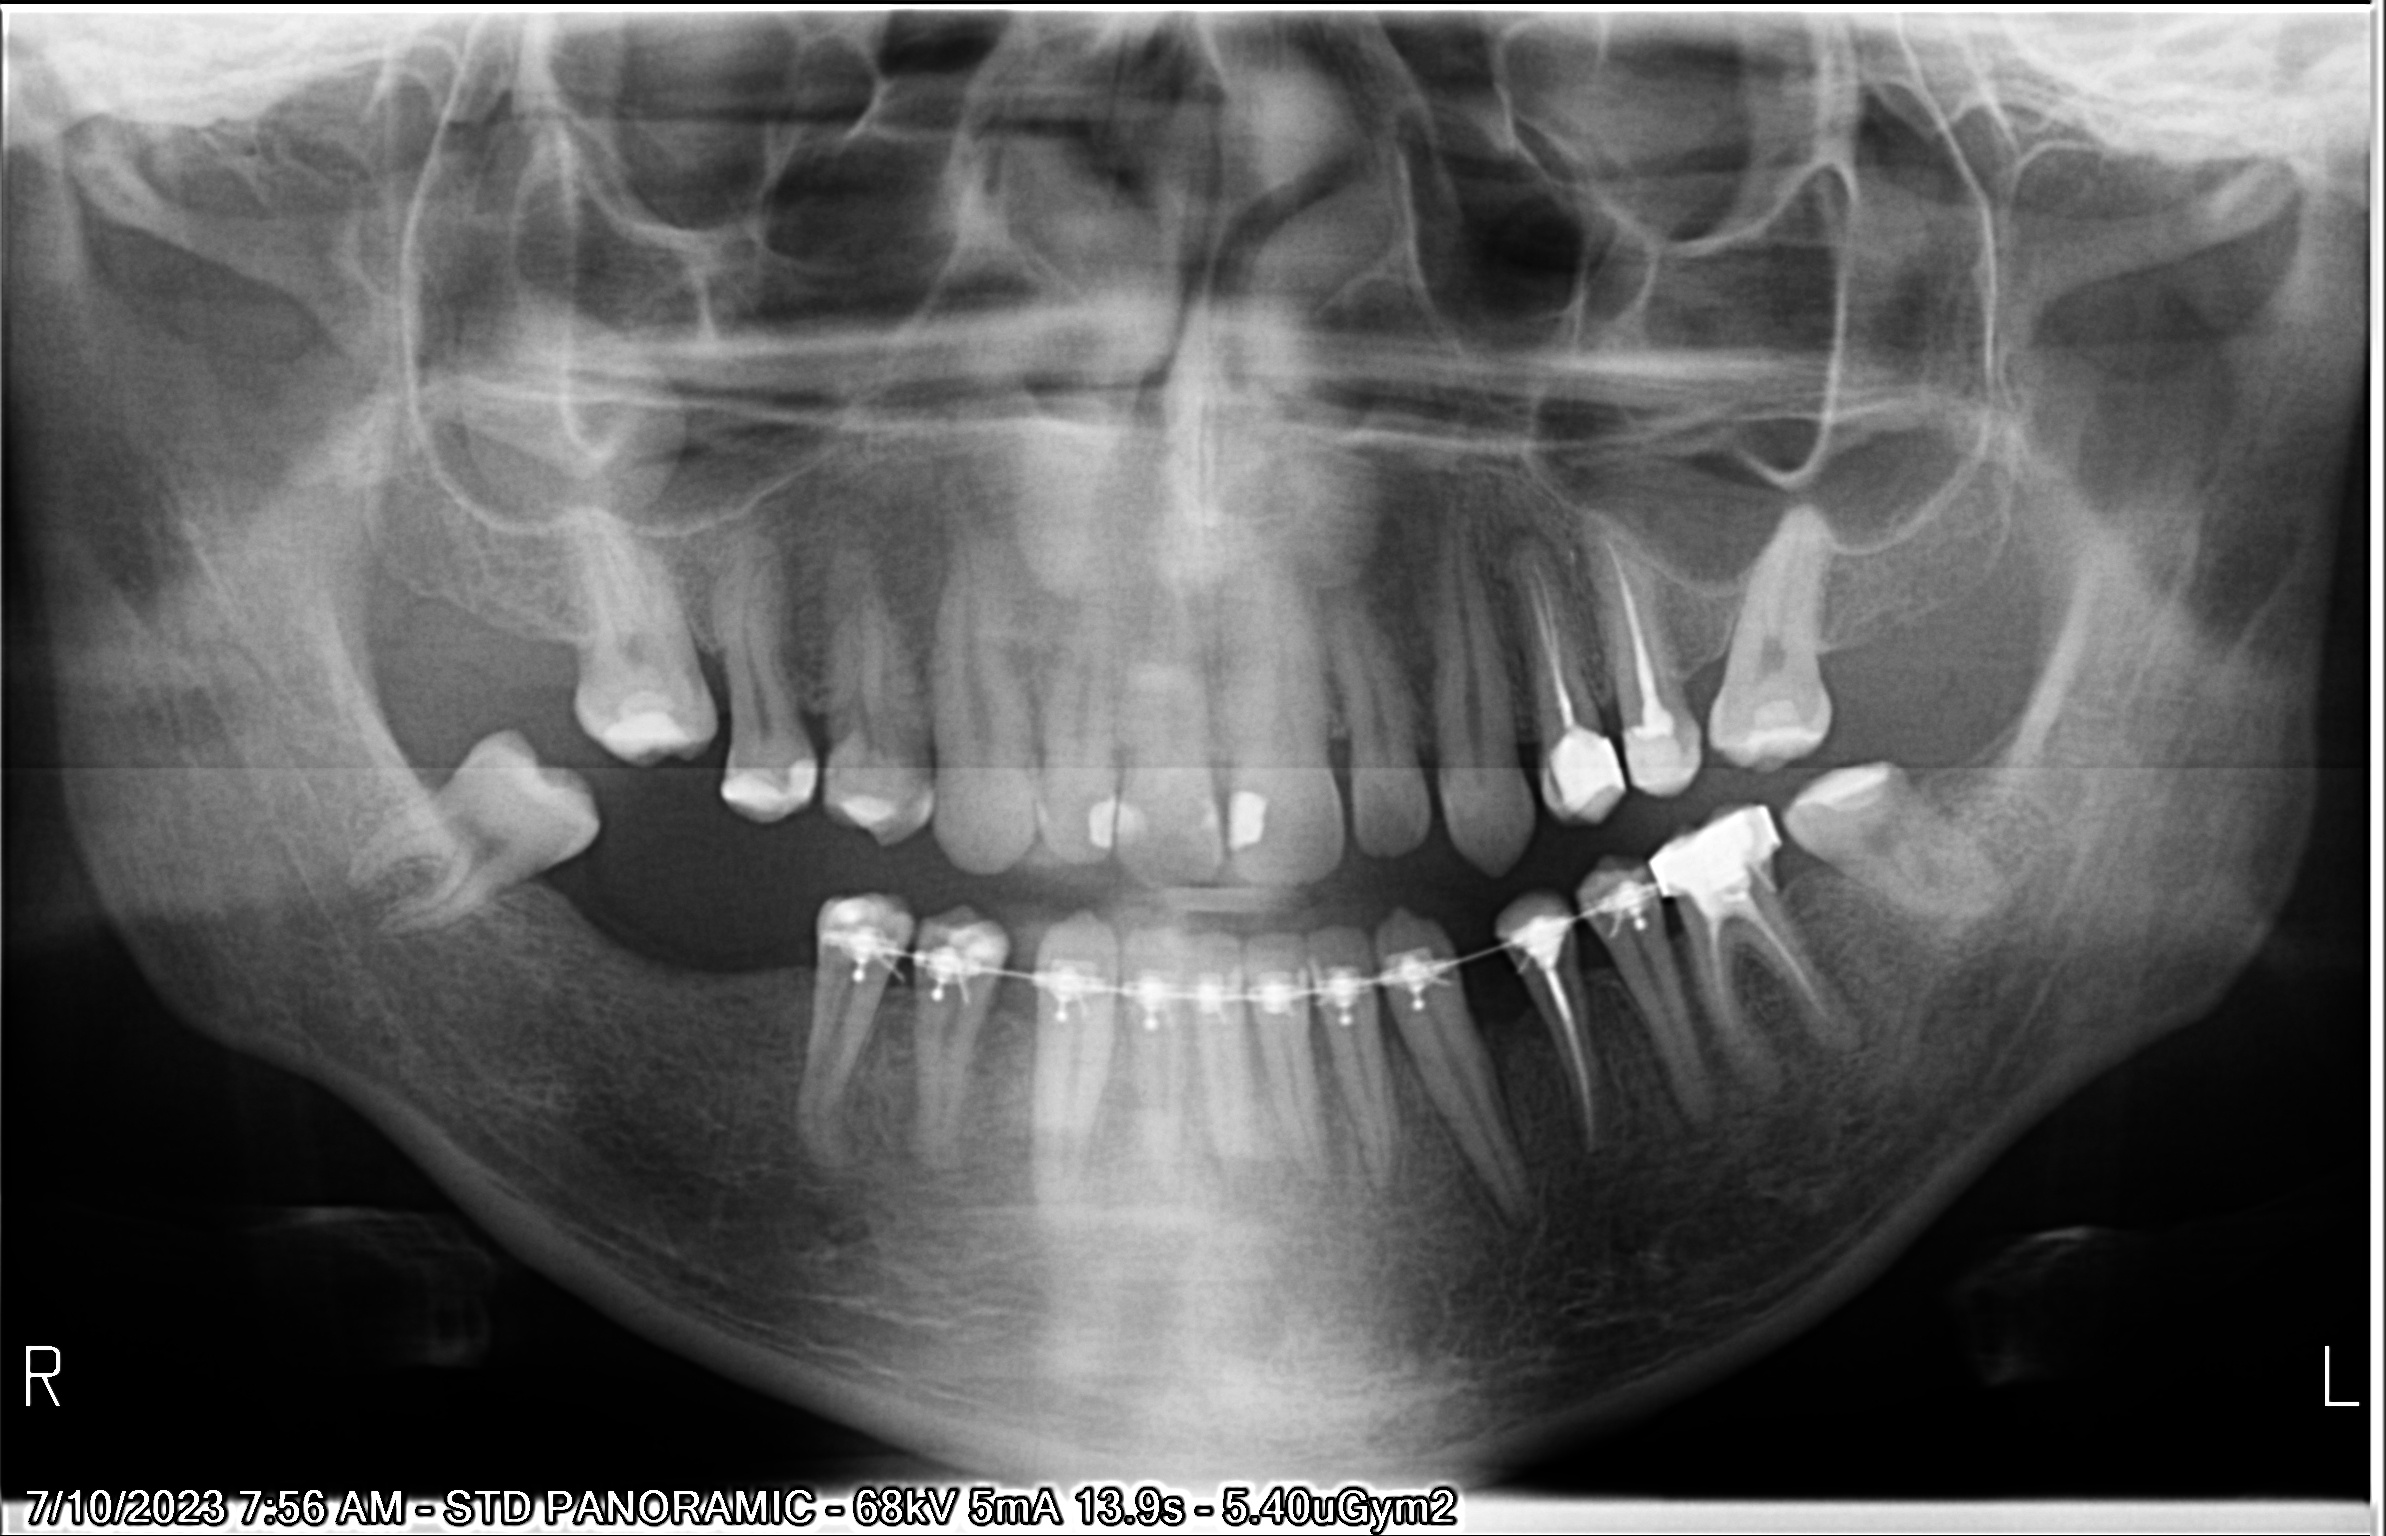END: (685, 416, 2337, 1536), (756, 379, 2386, 1449), (675, 177, 2304, 908), (736, 151, 2386, 872)
IMT: (770, 257, 2386, 1245)
OBT: (690, 431, 2276, 1414), (750, 339, 2386, 1237), (595, 334, 1878, 1219), (508, 355, 1643, 1216), (249, 327, 1125, 1164), (235, 294, 908, 1079)
ORD: (0, 287, 1642, 1339)
